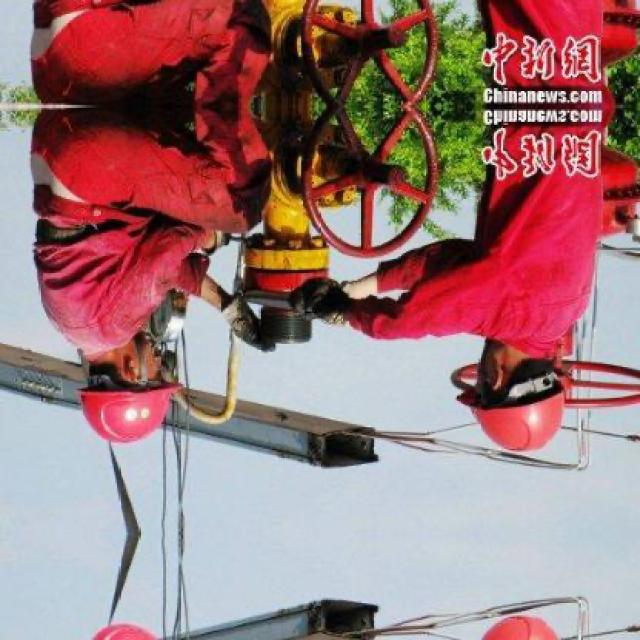con casco: (59, 302, 188, 460), (449, 352, 585, 455)
